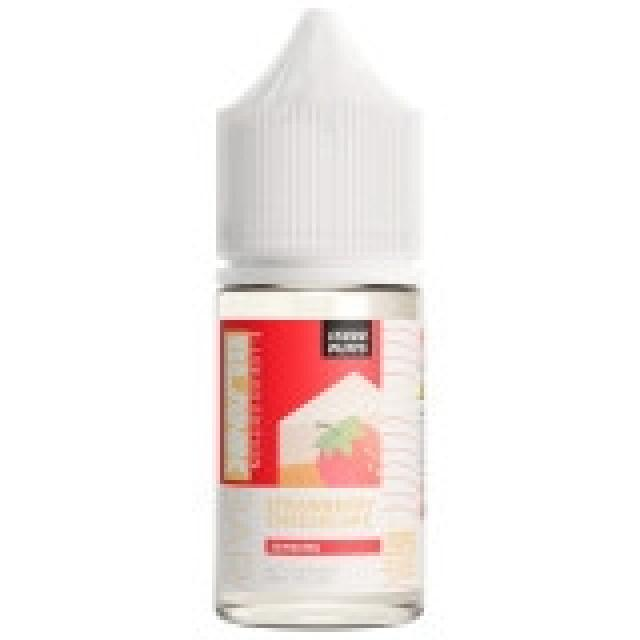Hazard: (208, 4, 428, 628)
